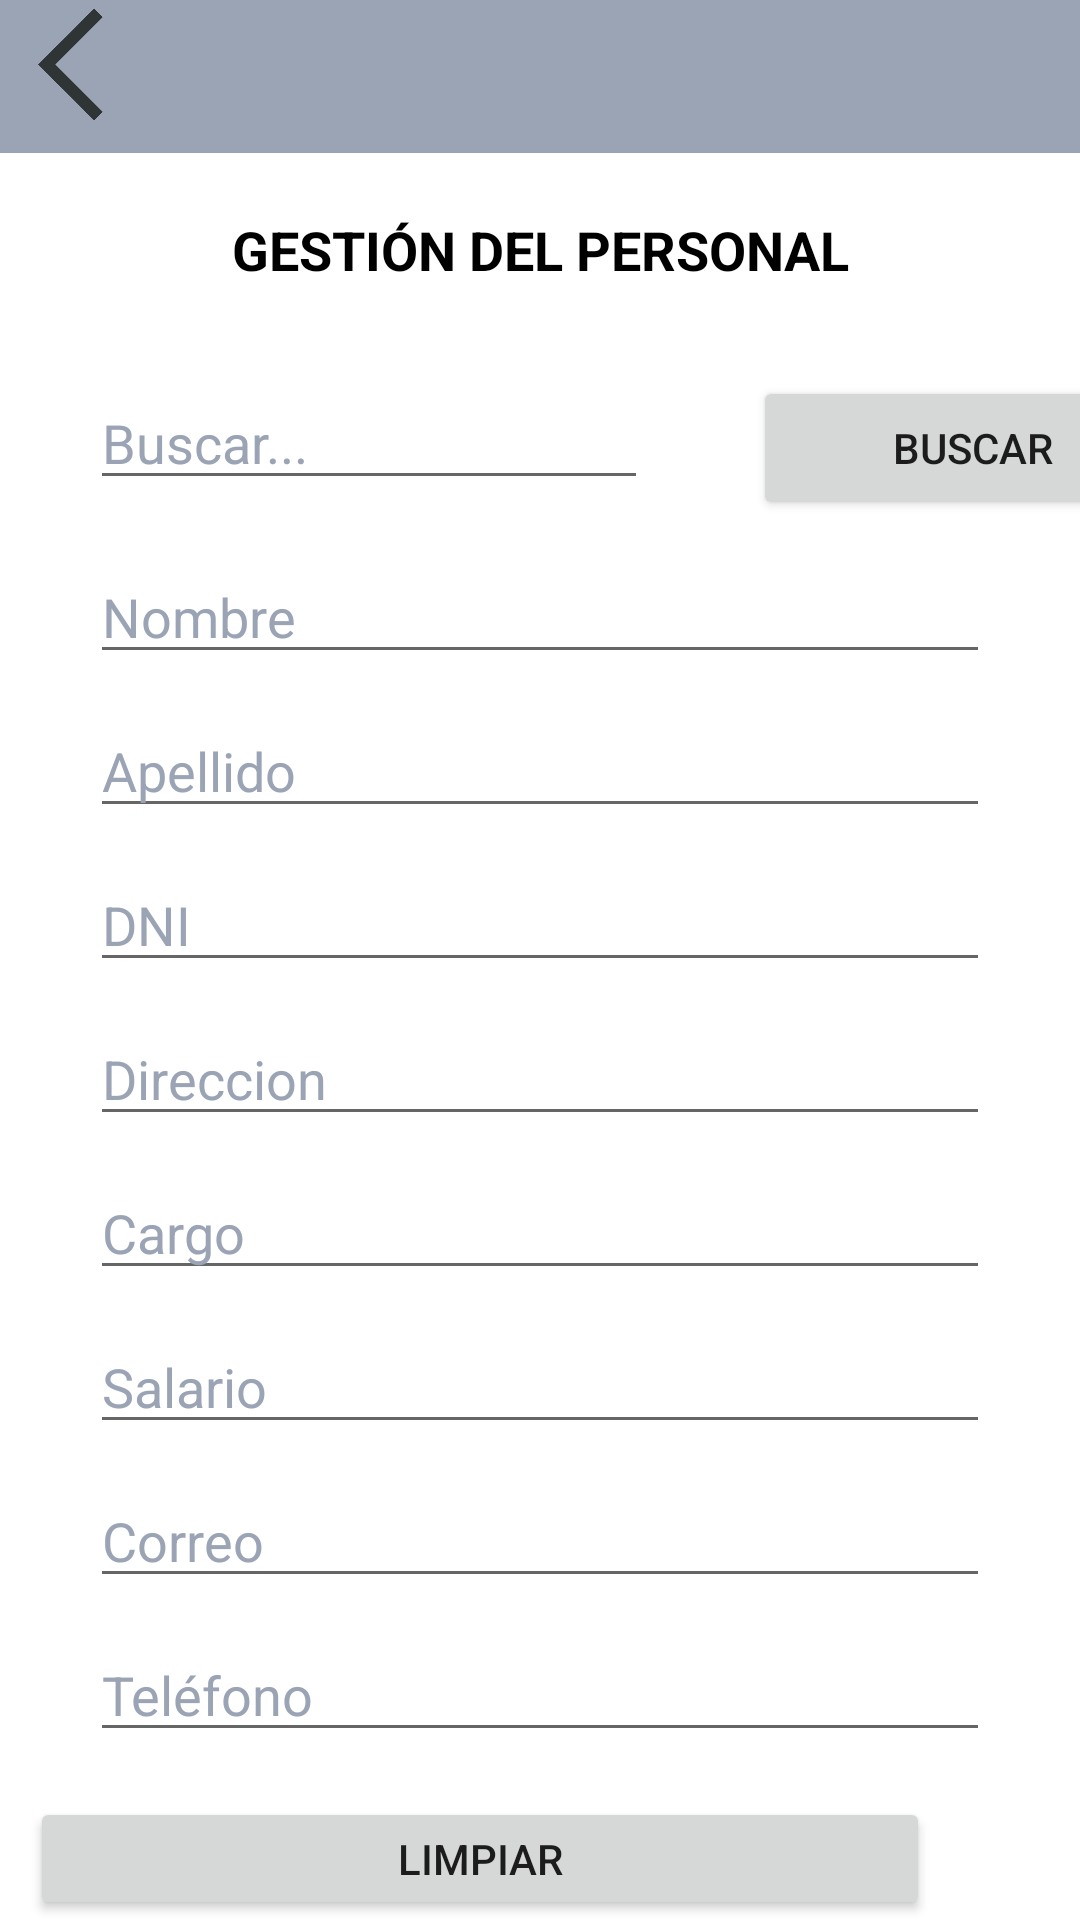

Icons on this 1080*1920 Android screen, each with the point to tap as (x,y):
fllecha: (70,64)
